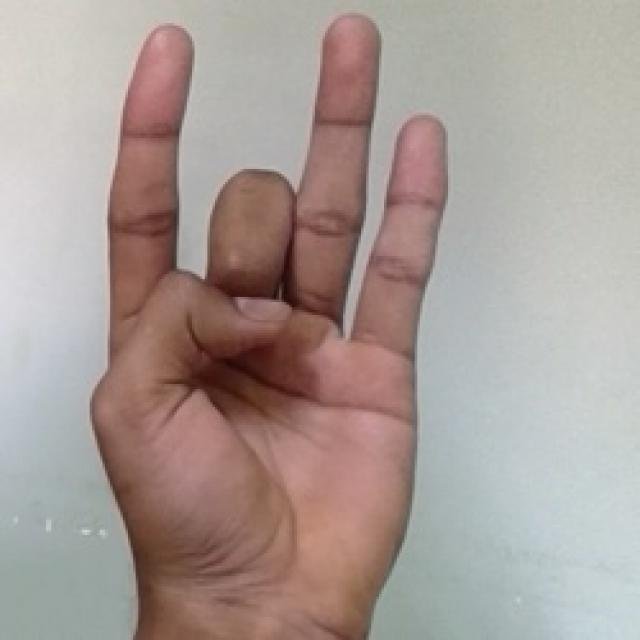Numeric-8: (90, 17, 456, 570)
